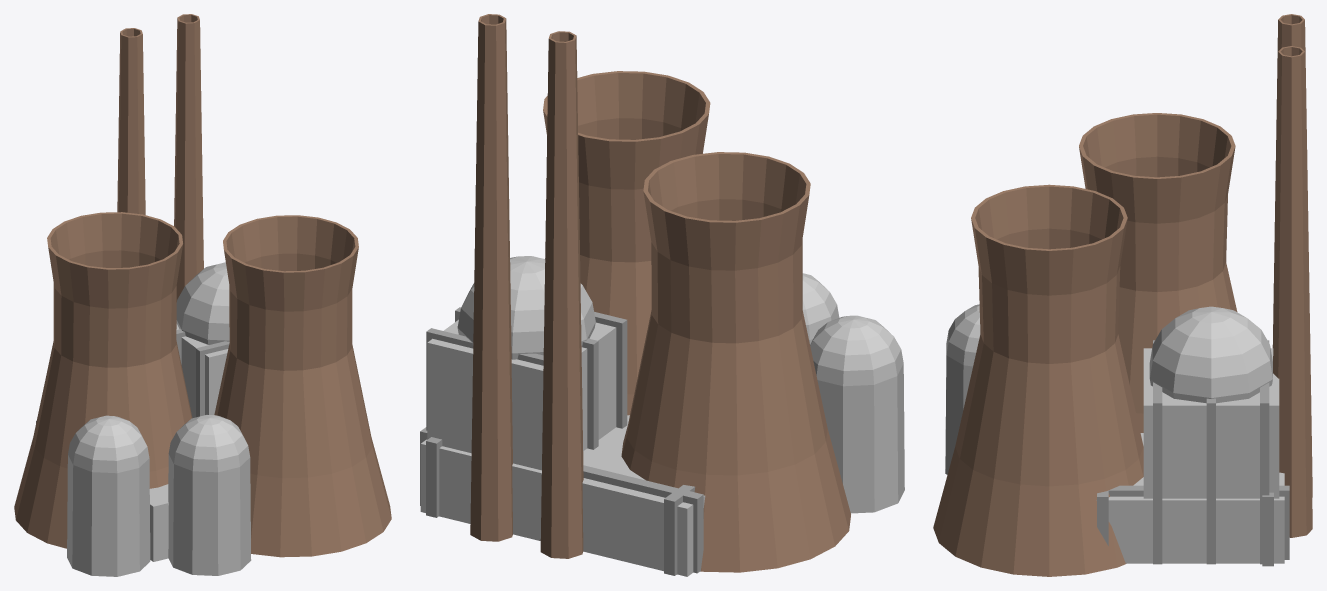
Rendered from NuclearPowerplant 1.fbx.
3 views of the same model, side by side, from view 1: azimuth 30°, elevation 25°; view 2: azimuth 150°, elevation 25°; view 3: azimuth 270°, elevation 25° (orthographic). The views are drawn at different scales.
Parts seen in each view (by area): view 1: pCube92; view 2: pCube92; view 3: pCube92.
Boxes of the visible parts, x1,y1,x2,y2 form: pCube92: (14, 14, 391, 576); pCube92: (420, 14, 904, 576); pCube92: (933, 14, 1312, 576).
Size of the model in its own units: 30.22 by 39.2 by 28.21.
